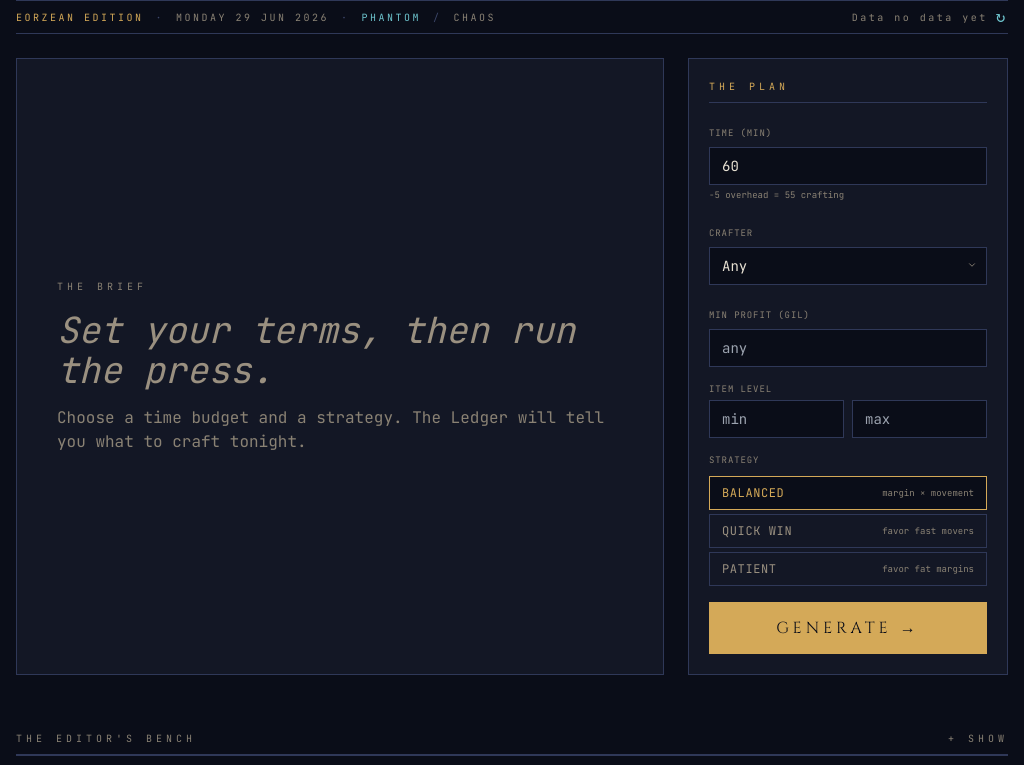
Test: SessionPlanner › scans the snapshot and renders a top pick after Generate
# Wait for the Generate button to be enabled (snapshot ready).
Step 1. Click the button "Generate →" → (848, 628), box [709,602,987,654]
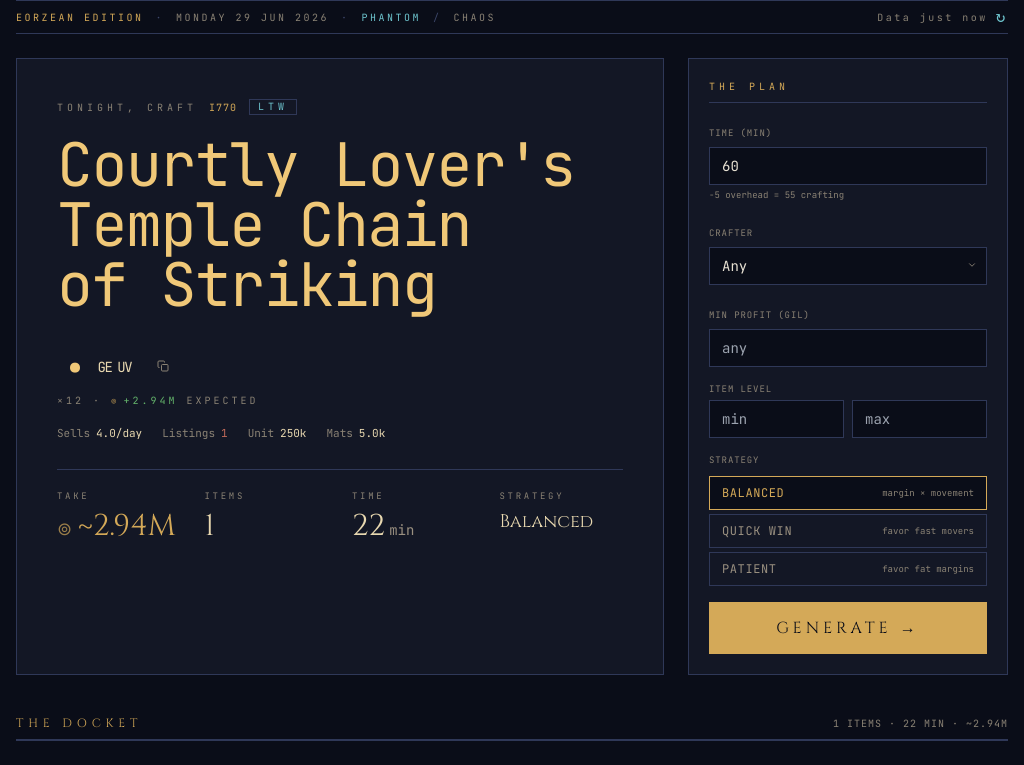
Expected: the link "Courtly Lover's Temple Chain of Striking" is shown, [57,135,623,315]
